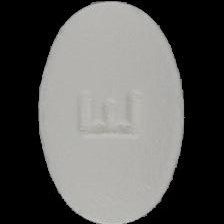68788-9691: (0, 0, 224, 224)
